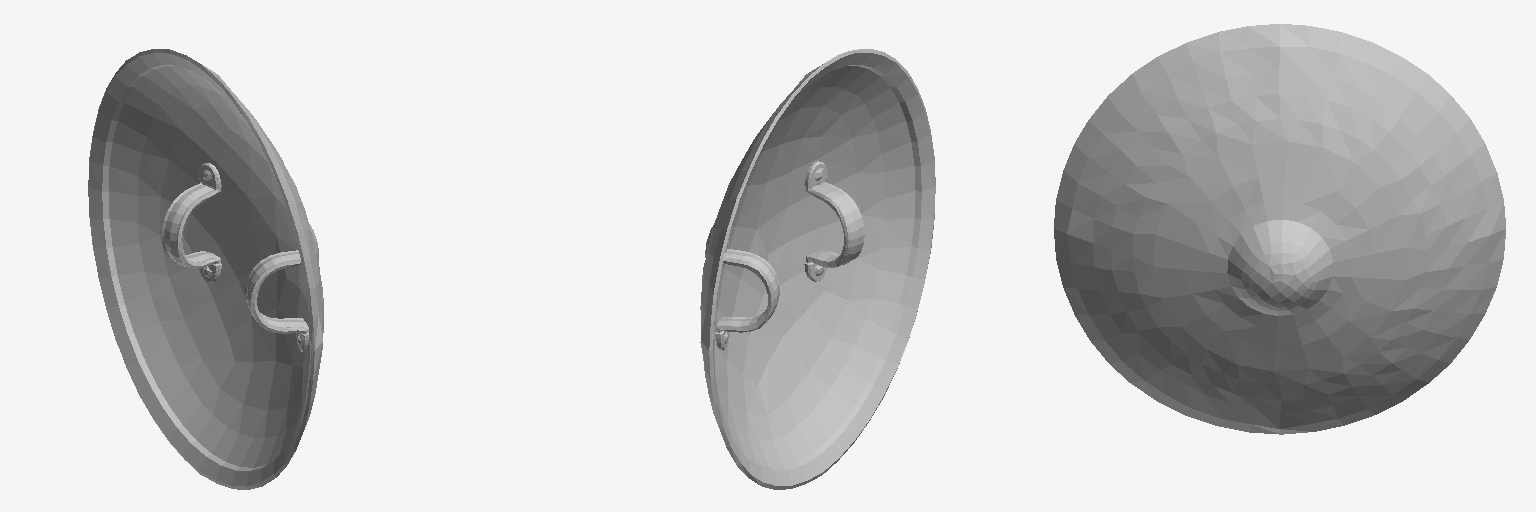
Rendered from Shield v3.obj.
The picture shows the model from 3 angles: view 1: azimuth 30°, elevation 25°; view 2: azimuth 150°, elevation 25°; view 3: azimuth 270°, elevation 25°; orthographic projection.
Visible parts, largest first — view 1: Shield_v3; view 2: Shield_v3; view 3: Shield_v3.
Part boxes in pixels (bbox=[...]): Shield_v3: bbox=[88, 49, 323, 489]; Shield_v3: bbox=[700, 49, 935, 489]; Shield_v3: bbox=[1054, 24, 1505, 434].
Size of the model in its own units: 18.4 by 64.01 by 63.89.